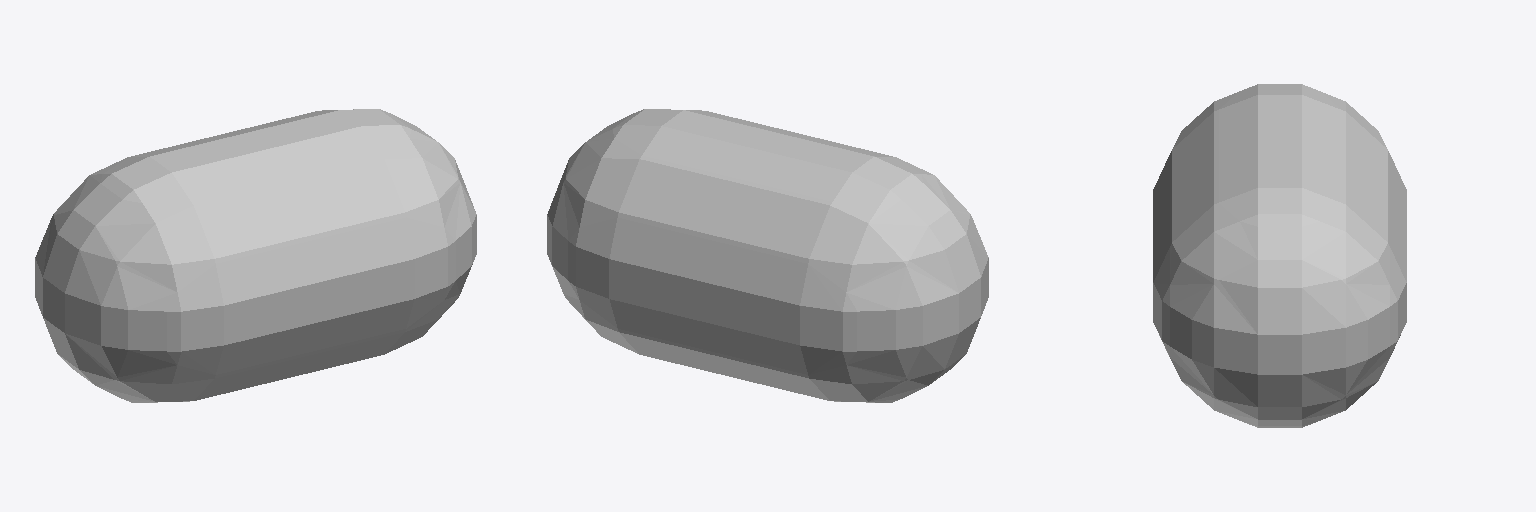
3 views of the same model, side by side, from view 1: azimuth 30°, elevation 25°; view 2: azimuth 150°, elevation 25°; view 3: azimuth 270°, elevation 25° (orthographic).
Parts seen in each view (by area): view 1: Mball_Meta; view 2: Mball_Meta; view 3: Mball_Meta.
Part boxes in pixels (x1,y1,x2,y2): Mball_Meta: (35,109,476,402); Mball_Meta: (547,109,988,402); Mball_Meta: (1153,84,1406,427).
Size of the model in its own units: 50.91 by 27.6 by 27.6.